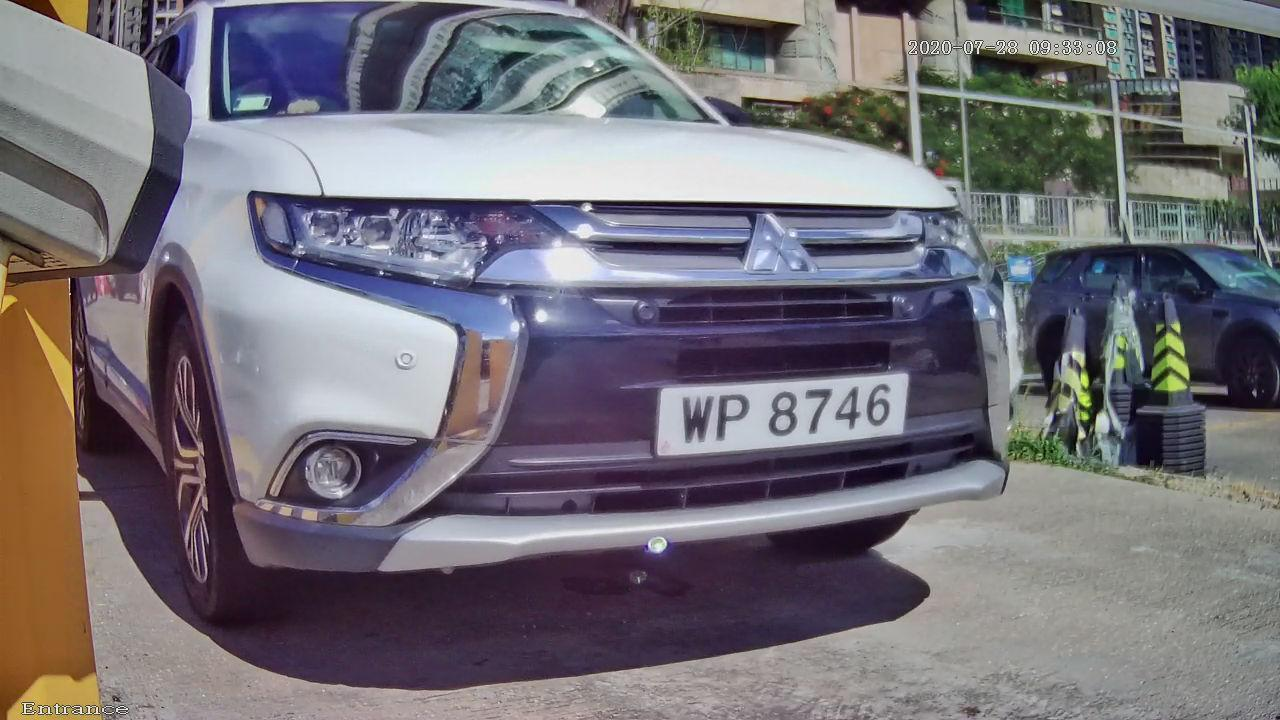privatecar: (29, 1, 1161, 692)
